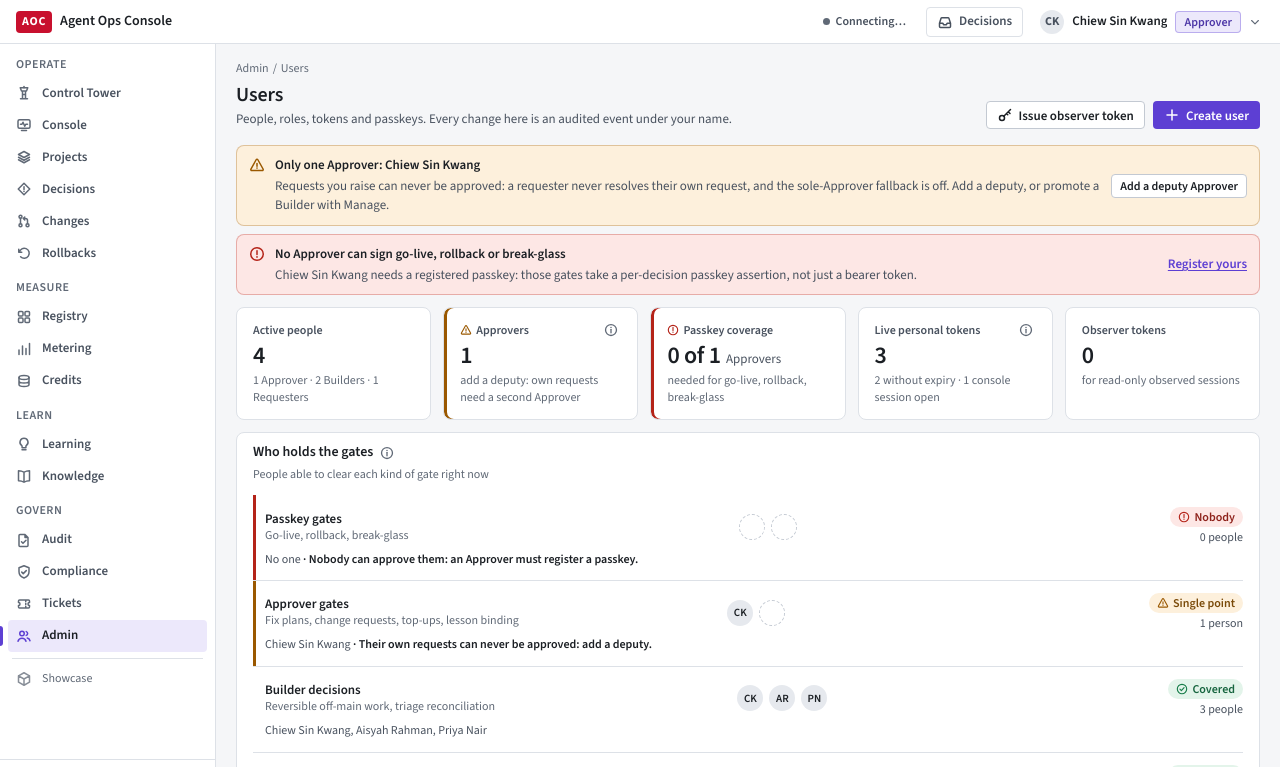
Test case: Admin › Users page › issues an observer token to one developer, and only once one is chosen (O-6)
Expected: the heading "Users" is shown, x1=236 y1=81 x2=283 y2=108
Click the button "Issue observer token" at (1065, 115), box x1=986 y1=101 x2=1145 y2=129
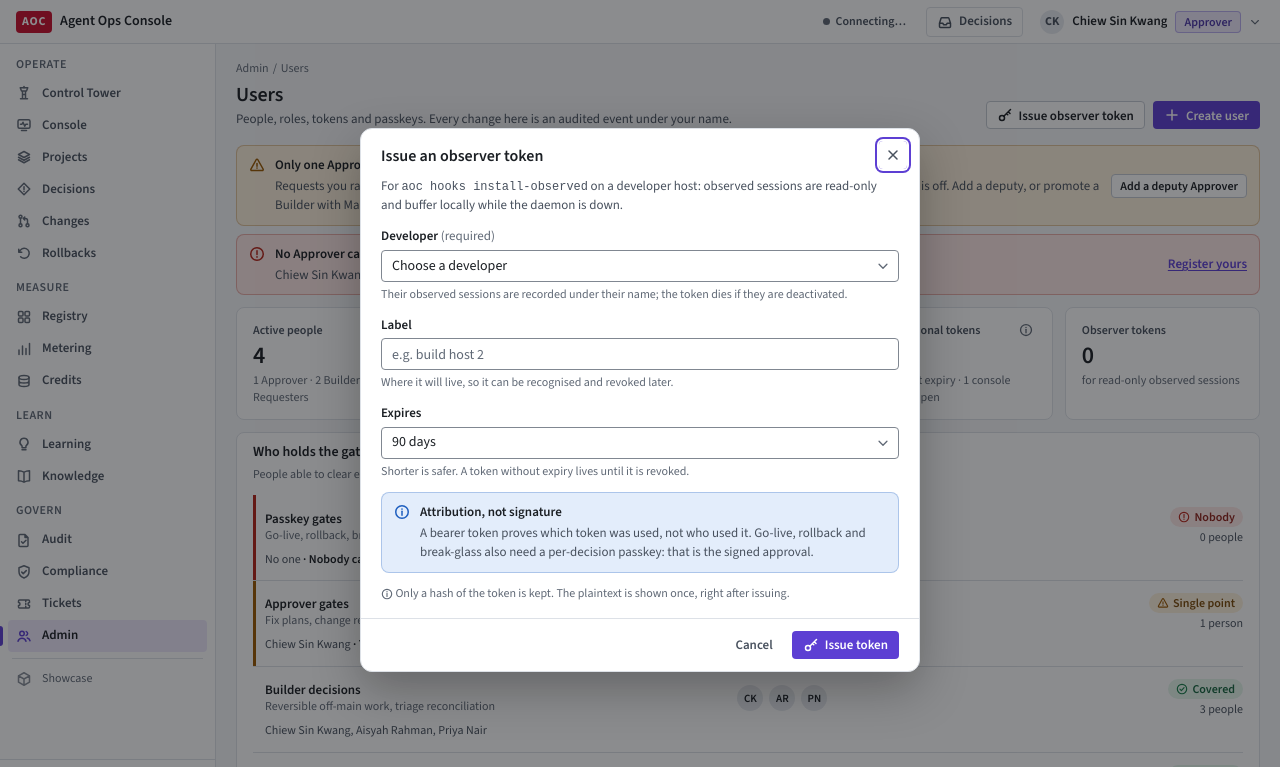
Click the button "Issue token" at (845, 645), box x1=792 y1=631 x2=899 y2=659
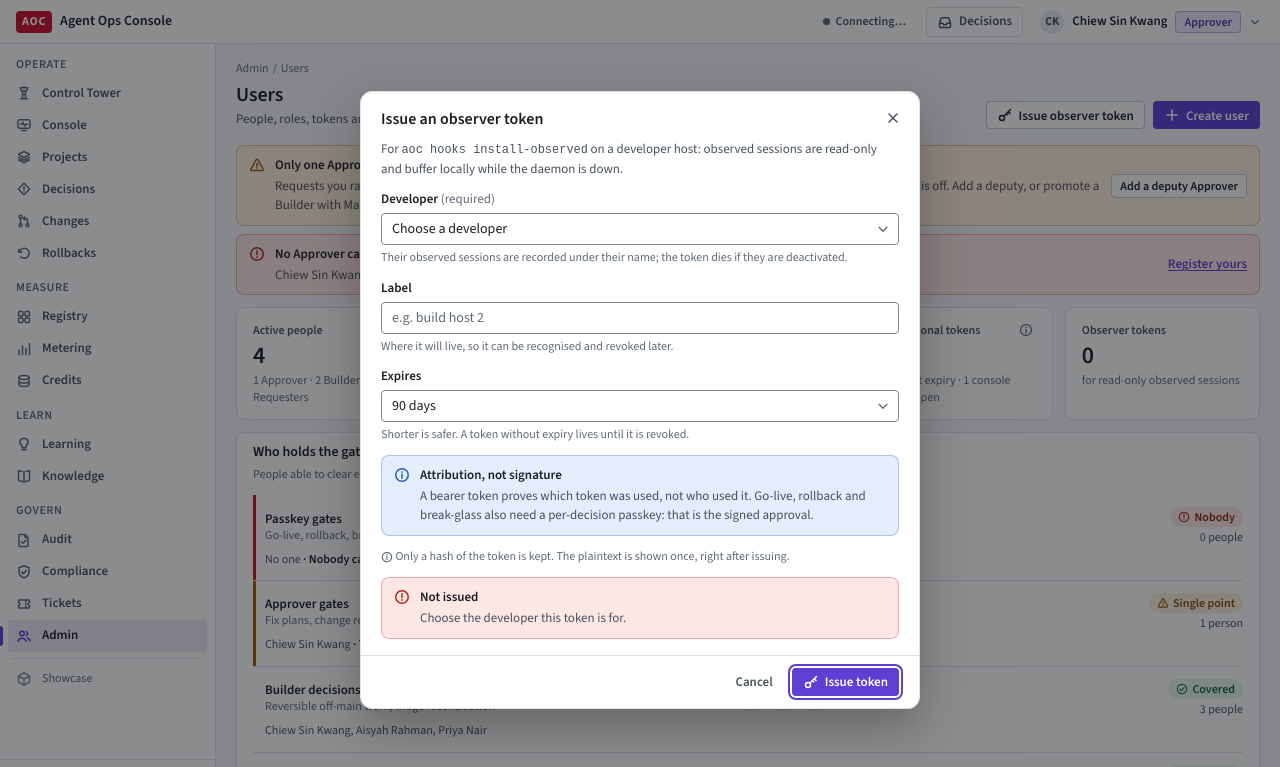
Expected: the text "Choose the developer this token is for." is shown, x1=420 y1=609 x2=626 y2=626
Select "Aisyah Rahman" in the dropdown labelled "Developer (required)" at (640, 229), box x1=381 y1=213 x2=899 y2=245
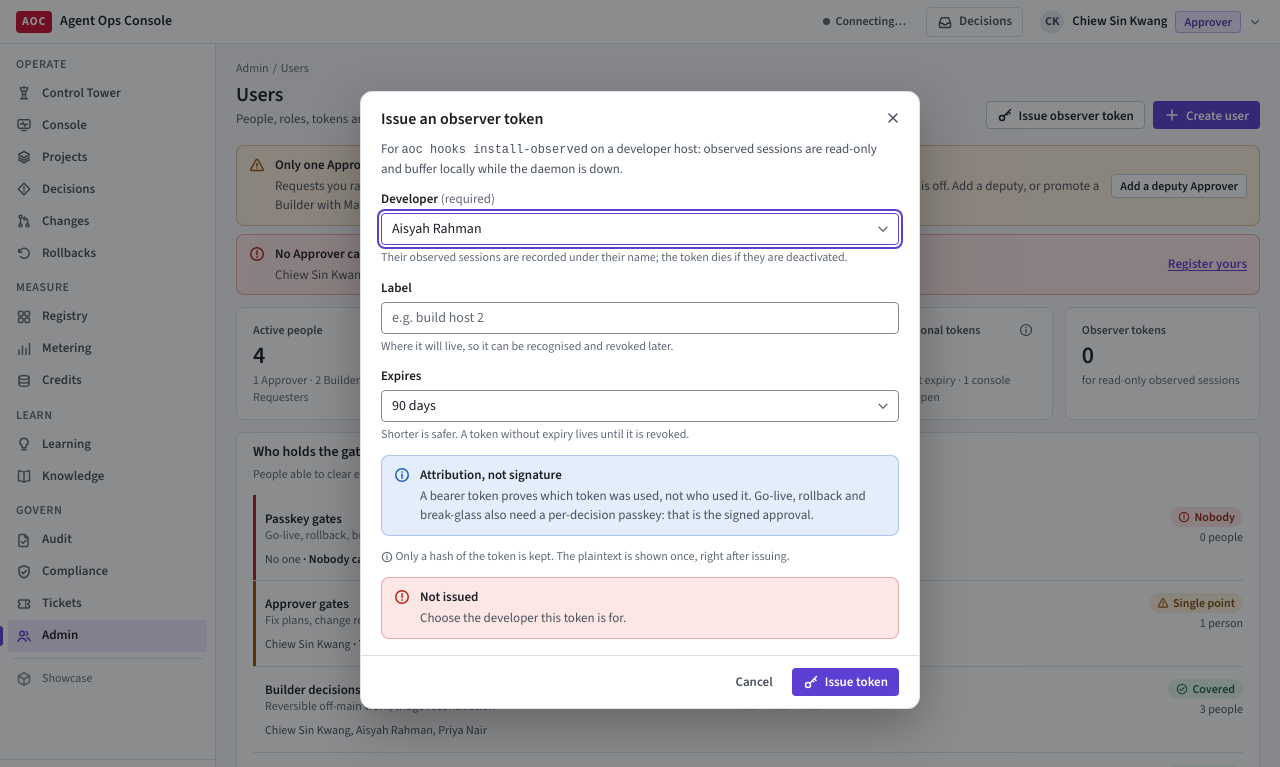
Click the button "Issue token" at (845, 682), box x1=792 y1=668 x2=899 y2=696
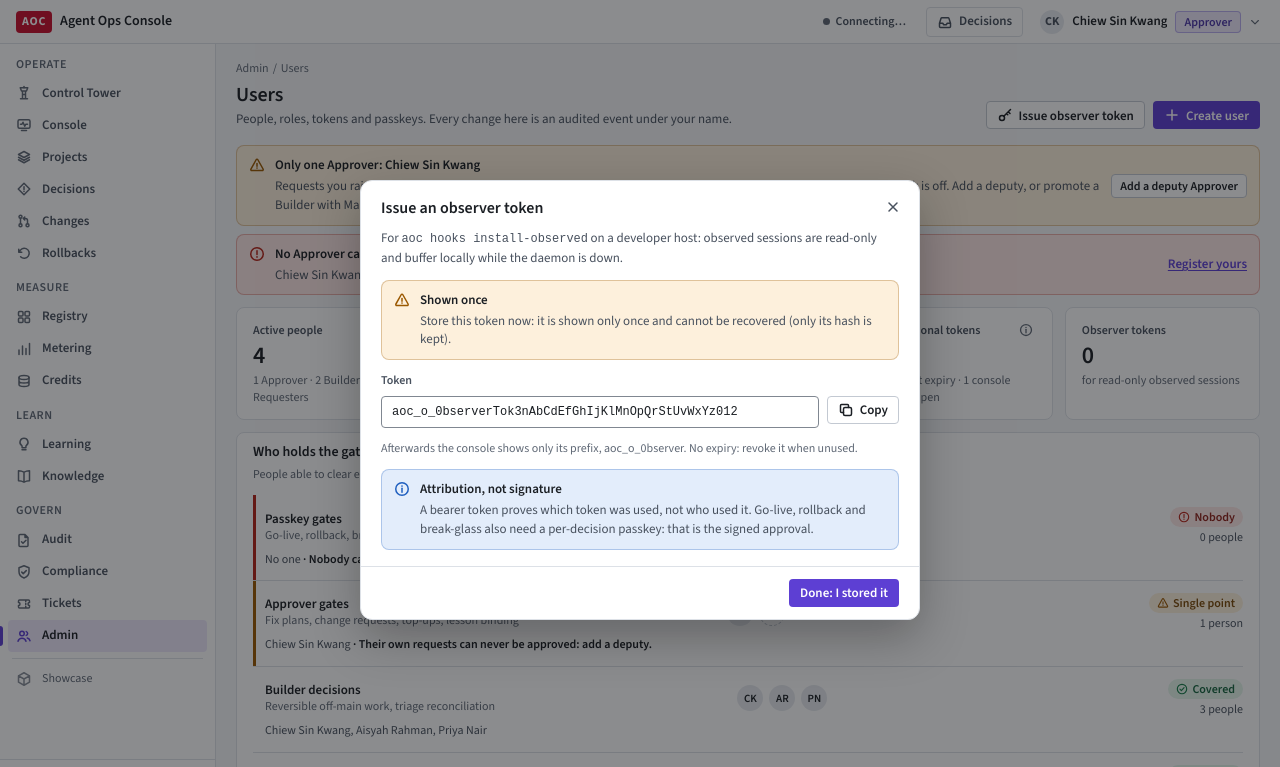
Expected: the field labelled "Token" holds "aoc_o_0bserverTok3nAbCdEfGhIjKlMnOpQrStUvWxYz012", x1=381 y1=396 x2=819 y2=428
